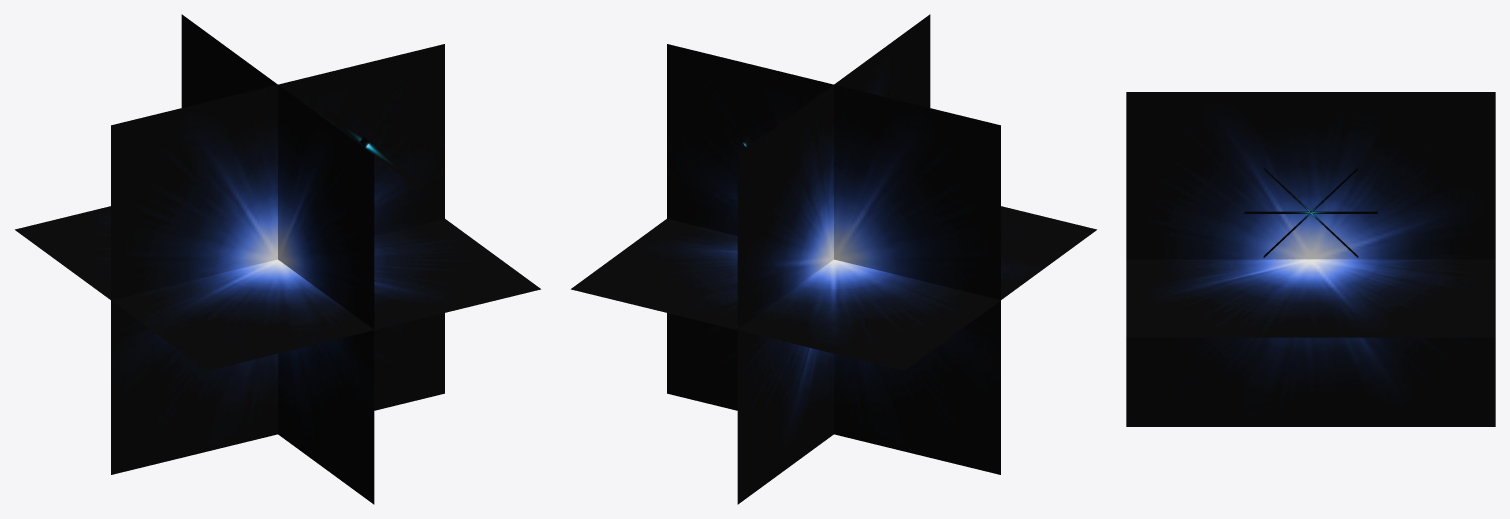
File: effect.FBX
3 renders of one model, left to right at view 1: azimuth 30°, elevation 25°; view 2: azimuth 150°, elevation 25°; view 3: azimuth 270°, elevation 25°, orthographic. The views are drawn at different scales.
Parts seen in each view (by area): view 1: 001, 002; view 2: 001; view 3: 001, 002.
Boxes of the visible parts, left/top/right/bottom form: 001: left=15, top=14, right=540, bottom=504; 002: left=322, top=108, right=424, bottom=190; 001: left=571, top=14, right=1096, bottom=504; 001: left=1126, top=92, right=1495, bottom=426; 002: left=1244, top=167, right=1377, bottom=257.
Size of the model in its own units: 4.74 by 4.74 by 4.74.
Materials: 2 (2 with a texture image).
